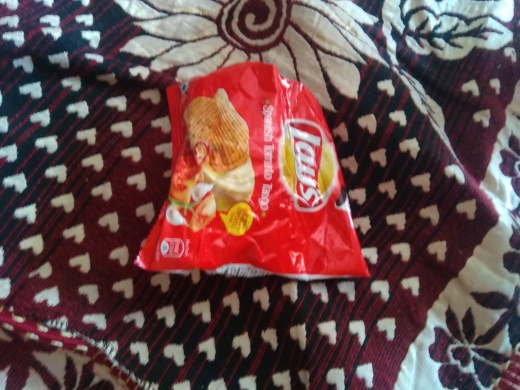lays: (127, 63, 380, 293)
